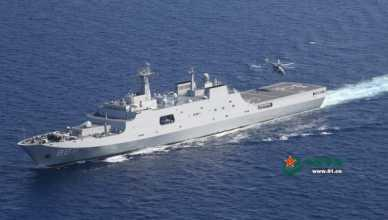airplane: (266, 49, 296, 80)
warship: (17, 48, 329, 166)
